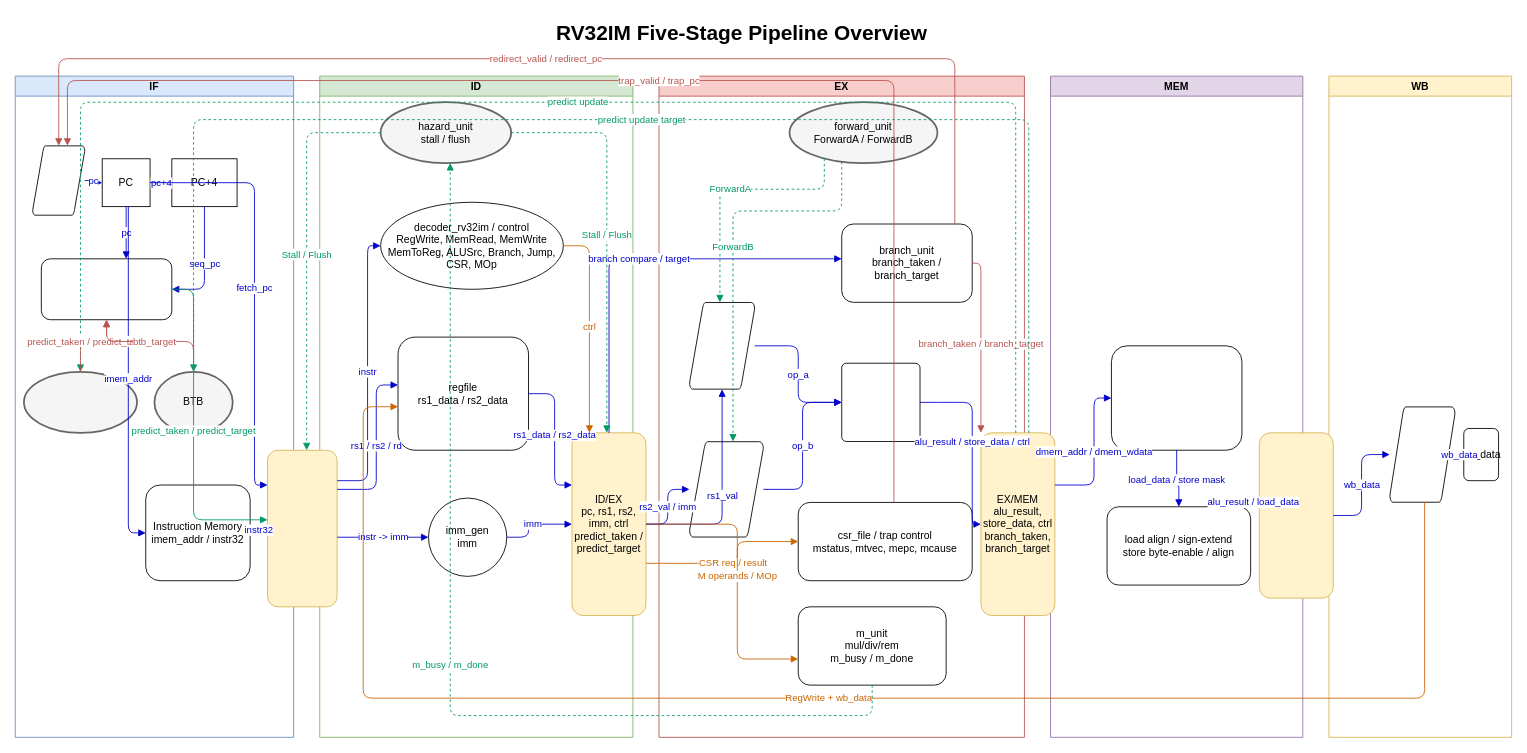
Some shapes in this 1527 by 753 pixel diagram are drawn without their labels. Each missing label, with the centre of its shape:
"ALU alu_result" belongs at (880,402).
"branch_predictor BHT" belongs at (80,402).
"Data Memory dmem_addr / dmem_wdata / dmem_rdata" belongs at (1176,397).
"ForwardA Mux" belongs at (722,345).
"ForwardB / ALUSrc Mux" belongs at (726,489).
"IF/ID pc, instr, predict_taken, predict_target" belongs at (302,528).
"MEM/WB alu_result, load_data, ctrl" belongs at (1295,515).
"PC Mux" belongs at (58,180).
"pc_manager seq / predict / redirect" belongs at (106,289).
"WB Mux" belongs at (1422,454).
